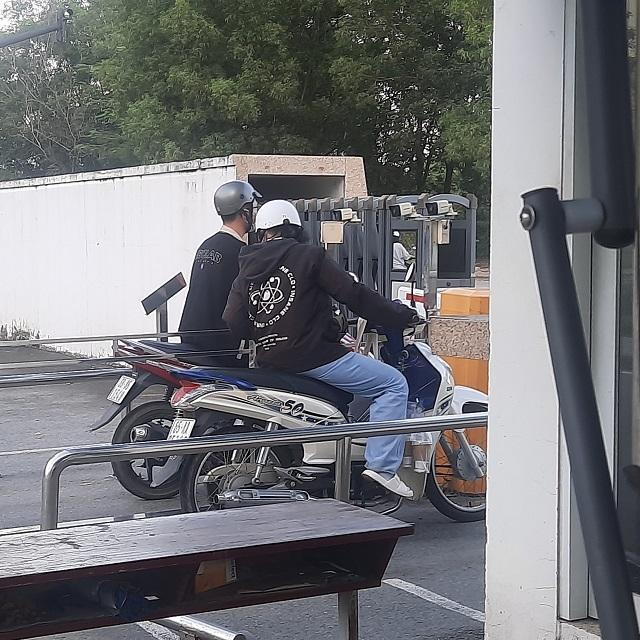Helmet: (213, 182, 261, 232), (255, 198, 305, 242)
